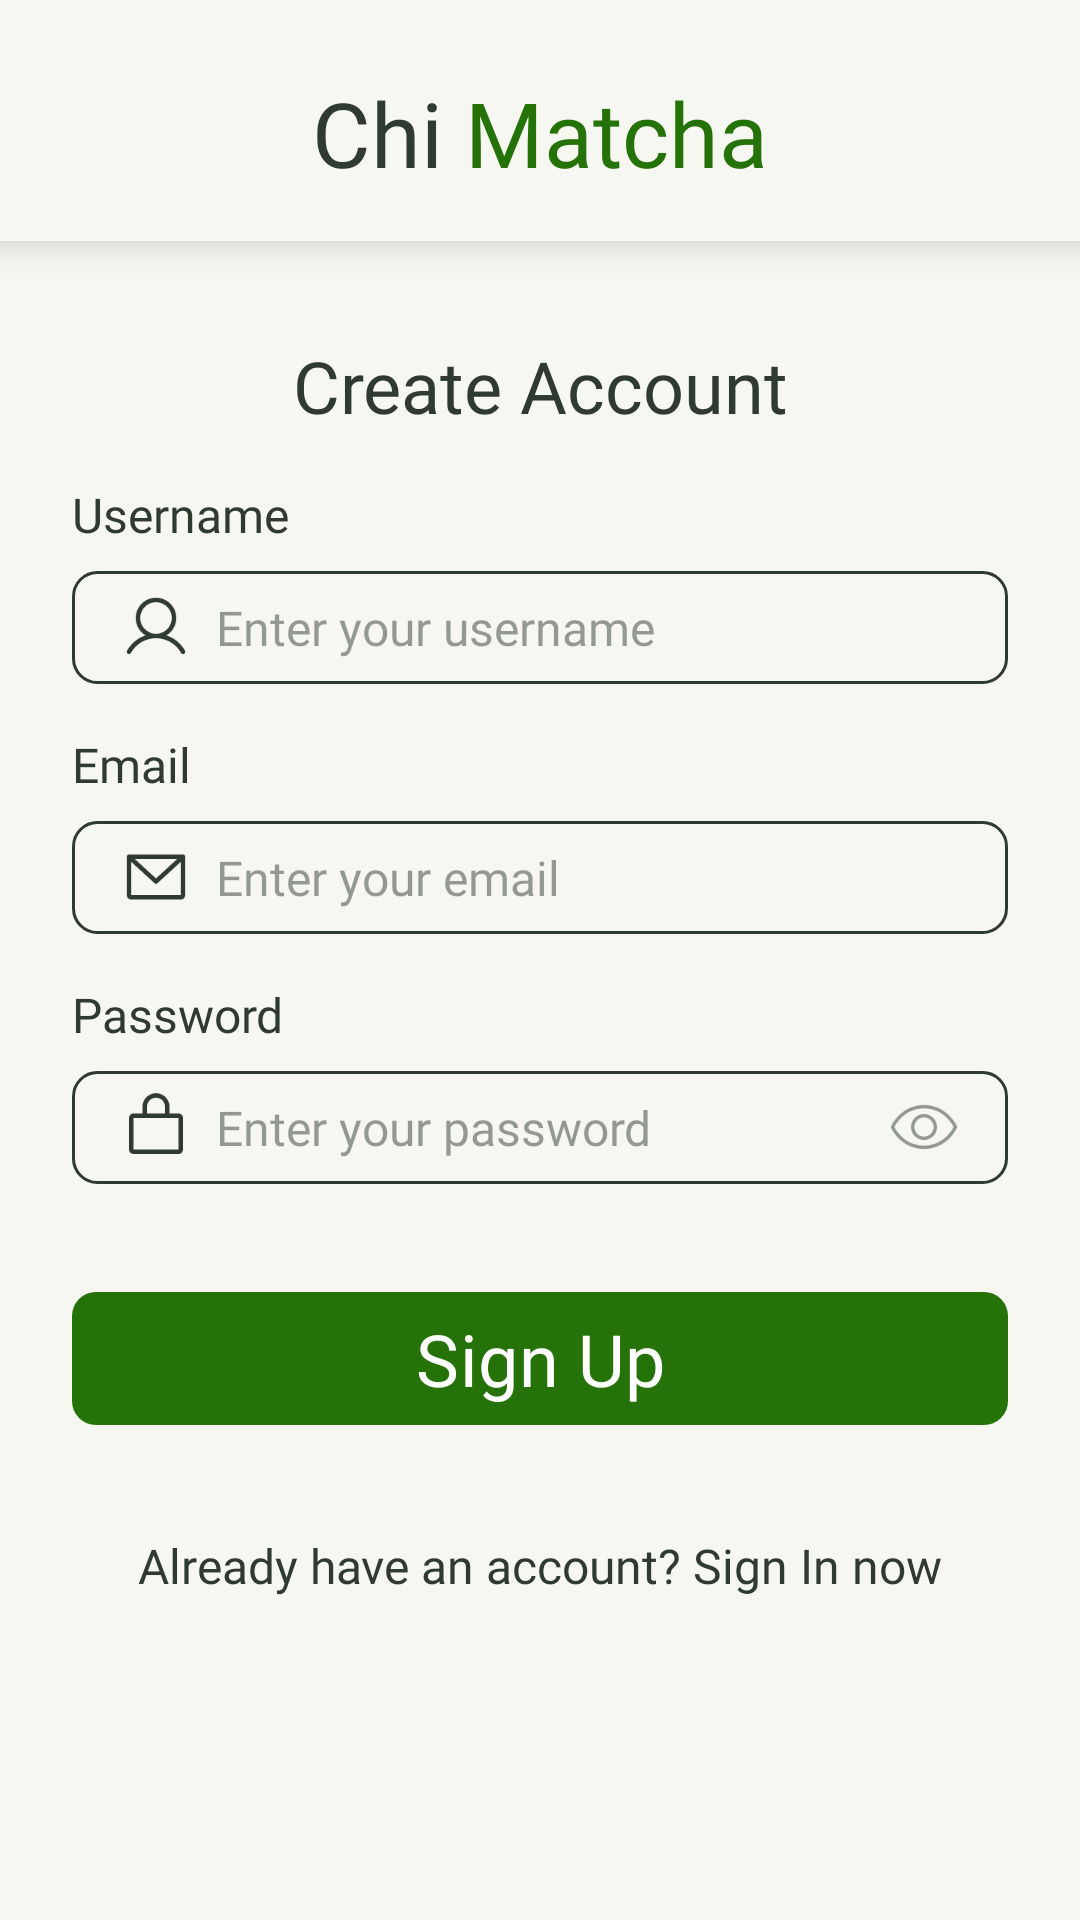

Point at icon controls on the screen. Image size 1080 x 1920, points as (x=x, y=y).
profile: (x=156, y=625)
